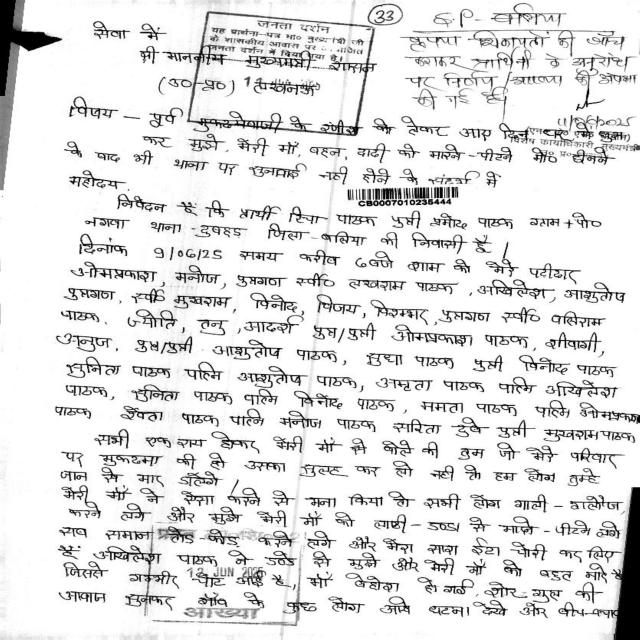barcode: (344, 185, 465, 208)
jantadarsan: (197, 9, 376, 140)
